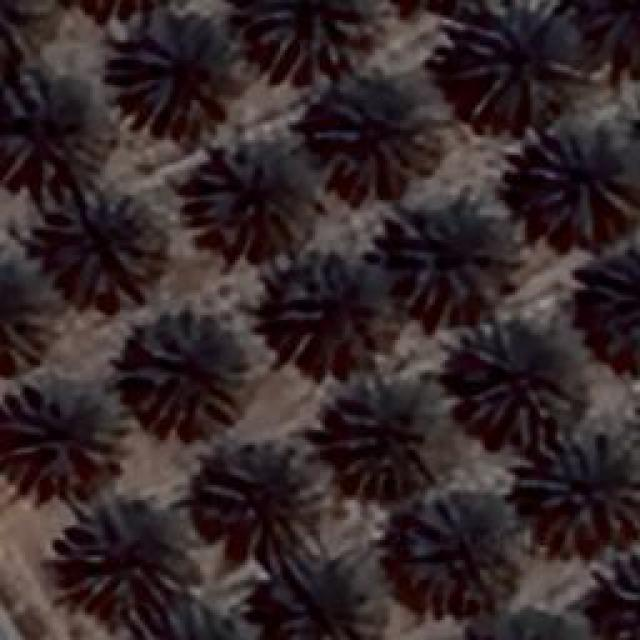PalmTree: (62, 492, 190, 618), (42, 185, 170, 308), (447, 5, 575, 120), (398, 492, 520, 610), (110, 20, 240, 130), (120, 318, 245, 432), (520, 428, 638, 538), (4, 380, 128, 482), (530, 122, 635, 242), (460, 320, 562, 438), (328, 90, 442, 185), (404, 198, 496, 314), (340, 388, 442, 492), (284, 268, 378, 368), (202, 158, 306, 244), (250, 0, 372, 70), (0, 238, 56, 384), (270, 562, 372, 640), (208, 455, 298, 540), (0, 88, 90, 172), (561, 0, 640, 89), (587, 259, 640, 352), (126, 605, 258, 640), (452, 605, 584, 640), (0, 0, 51, 81), (592, 555, 640, 640), (69, 0, 165, 25)
